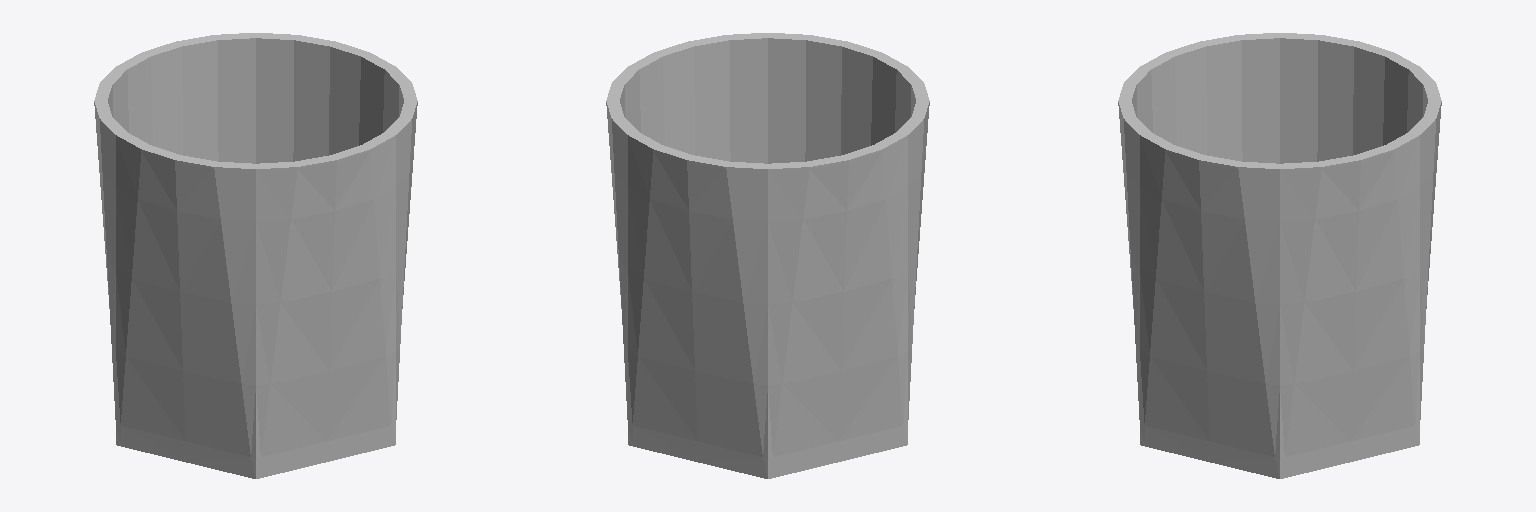
File: Glass.obj
3 renders of one model, left to right at view 1: azimuth 30°, elevation 25°; view 2: azimuth 150°, elevation 25°; view 3: azimuth 270°, elevation 25°, orthographic.
Visible parts, largest first — view 1: pCylinder10; view 2: pCylinder10; view 3: pCylinder10.
Part boxes in pixels (left/top/right/bottom): pCylinder10: left=94, top=33, right=417, bottom=478; pCylinder10: left=606, top=33, right=929, bottom=478; pCylinder10: left=1118, top=33, right=1441, bottom=478.
Bounding box in the file's own units: 14.76 × 15.61 × 14.76.